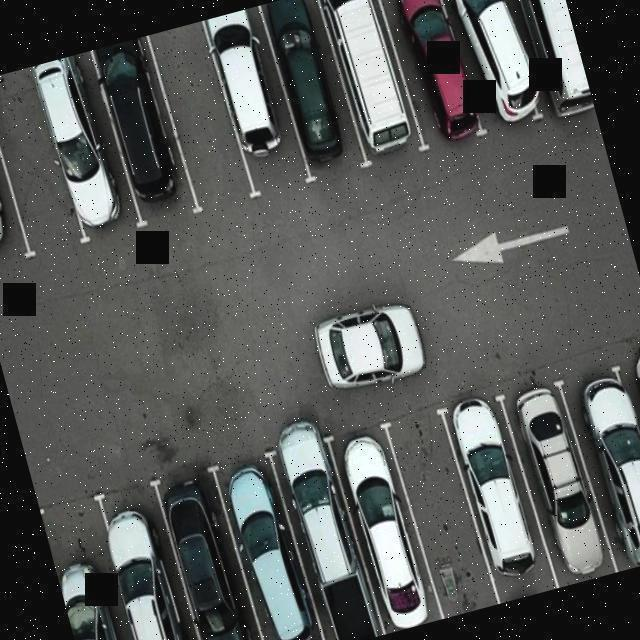space-empty: (383, 404, 499, 620), (151, 19, 257, 221), (0, 64, 84, 252)
space-occupied: (499, 377, 619, 590), (443, 390, 561, 605), (268, 436, 384, 640), (331, 425, 440, 635), (34, 48, 149, 245), (211, 447, 328, 640), (149, 461, 273, 640), (93, 34, 202, 231), (204, 5, 312, 203), (265, 0, 372, 188), (93, 470, 210, 640), (317, 0, 426, 166), (376, 0, 485, 153), (562, 365, 640, 573), (432, 0, 544, 141), (40, 495, 148, 640), (490, 0, 592, 116), (0, 79, 30, 273), (617, 355, 640, 558)
